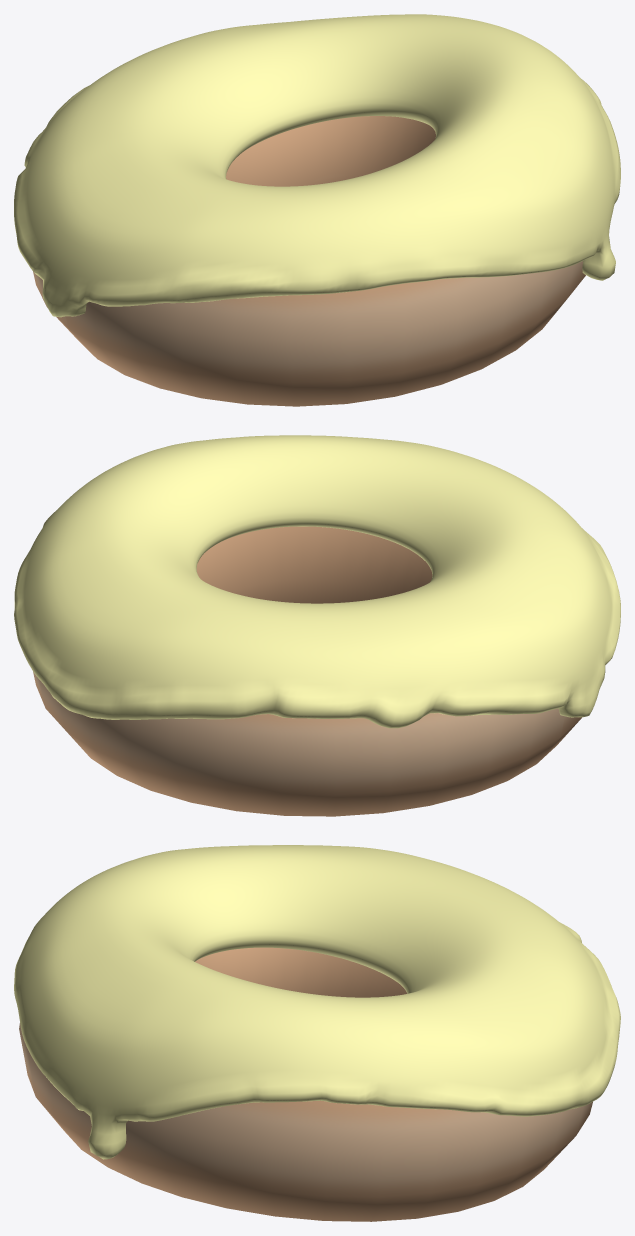
File: DonutYellowWhite.glb
3 renders of one model, top to bottom at view 1: azimuth 30°, elevation 25°; view 2: azimuth 150°, elevation 25°; view 3: azimuth 270°, elevation 25°, orthographic. The views are drawn at different scales.
Visible parts, largest first — view 1: icing, donut; view 2: icing, donut; view 3: icing, donut.
Part boxes in pixels (bbox=[...]): icing: bbox=[14, 14, 620, 317]; donut: bbox=[33, 116, 585, 406]; icing: bbox=[14, 435, 620, 728]; donut: bbox=[33, 526, 581, 816]; icing: bbox=[14, 845, 620, 1159]; donut: bbox=[19, 947, 592, 1221].
Size of the model in its own units: 0.1446 by 0.0599 by 0.1402.
Materials: 2 (1 with a texture image).
